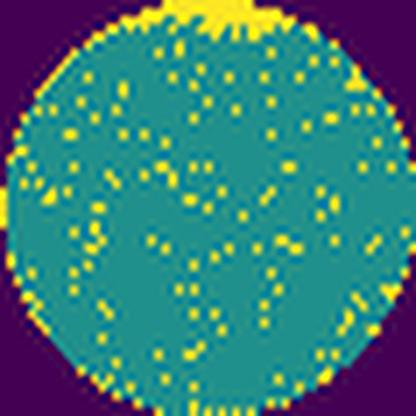Edge-Loc: (108, 0, 297, 39)
